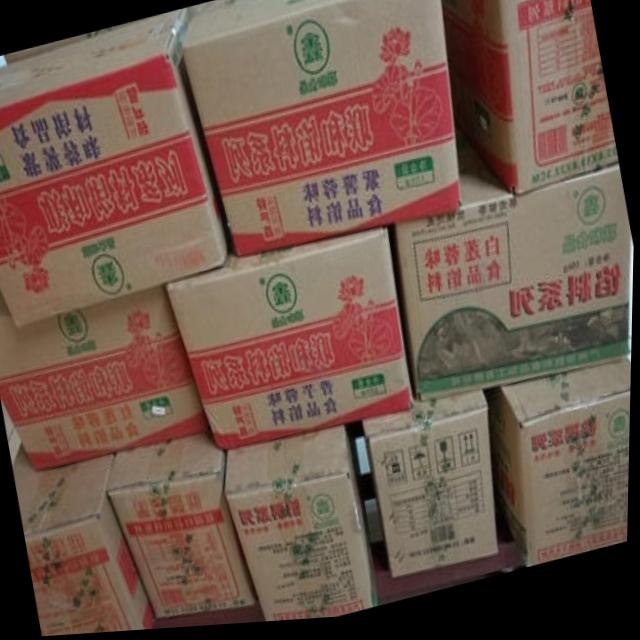box: (0, 14, 233, 330), (182, 0, 463, 261), (397, 139, 633, 407), (169, 237, 415, 454), (0, 286, 213, 471), (441, 0, 620, 203), (490, 366, 633, 573), (227, 432, 379, 625), (108, 433, 258, 621), (17, 443, 160, 637), (365, 396, 502, 582)
